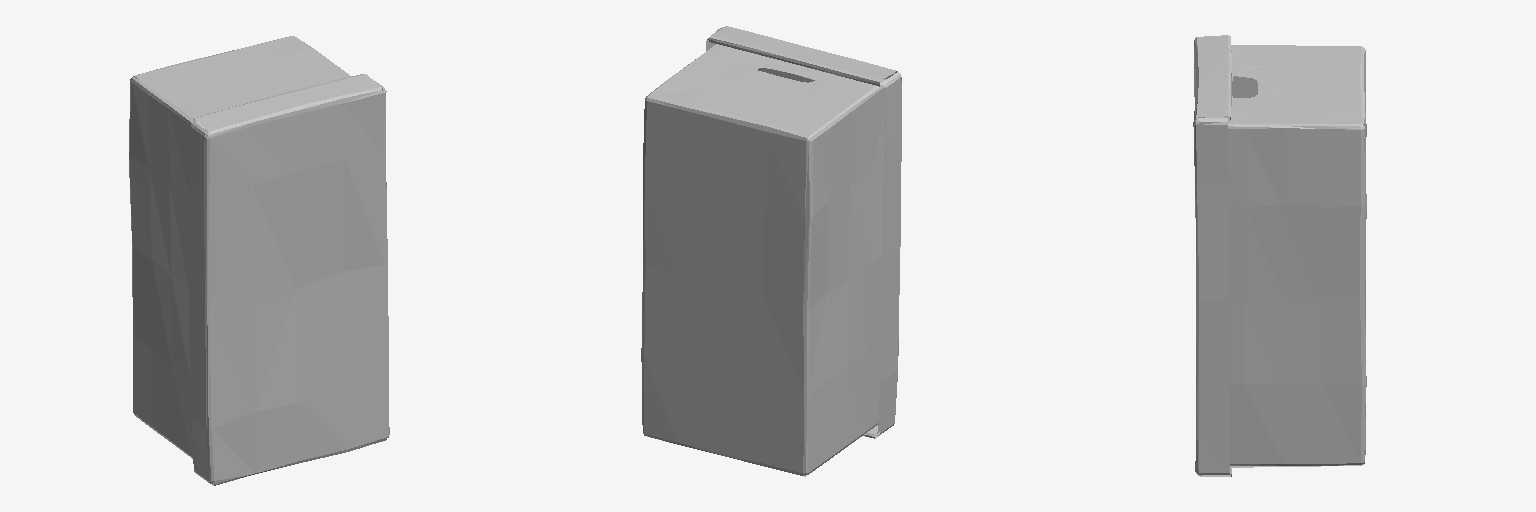
3 renders of one model, left to right at view 1: azimuth 30°, elevation 25°; view 2: azimuth 150°, elevation 25°; view 3: azimuth 270°, elevation 25°, orthographic.
Parts seen in each view (by area): view 1: BoxA_PI_BOX_0; view 2: BoxA_PI_BOX_0; view 3: BoxA_PI_BOX_0.
Part boxes in pixels (bbox=[...]): BoxA_PI_BOX_0: bbox=[129, 36, 389, 485]; BoxA_PI_BOX_0: bbox=[641, 26, 901, 476]; BoxA_PI_BOX_0: bbox=[1193, 35, 1366, 476].
Size of the model in its own units: 0.4943 by 0.92 by 0.3993.